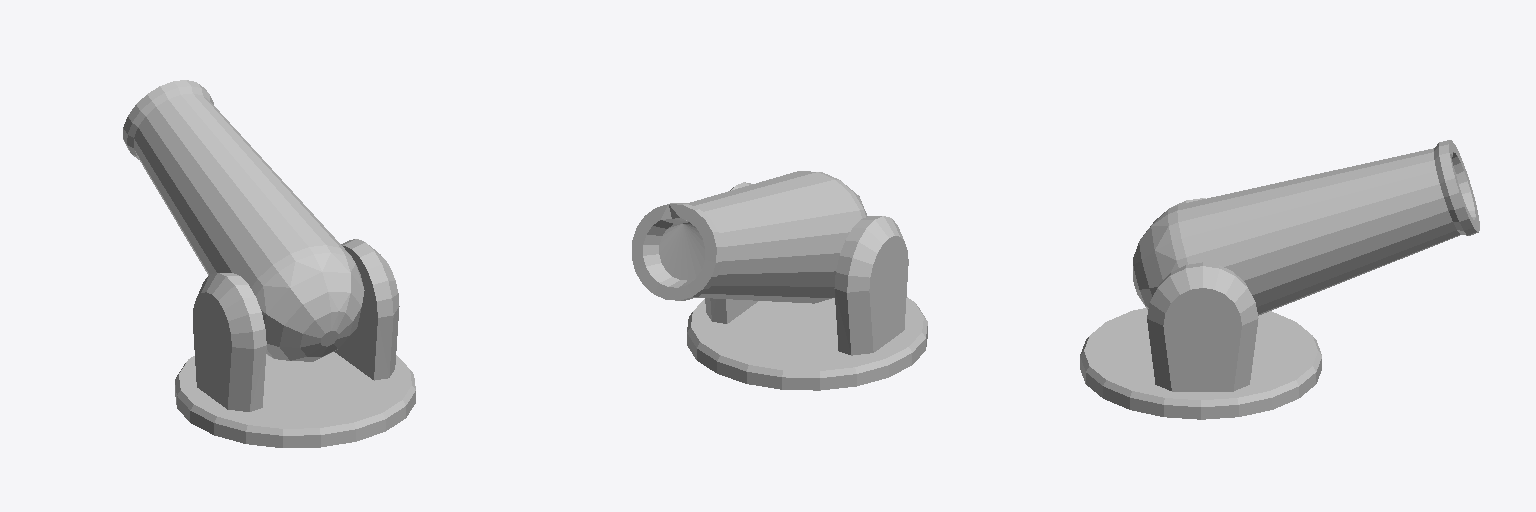
The model's file is Cannon.obj.
3 views of the same model, side by side, from view 1: azimuth 30°, elevation 25°; view 2: azimuth 150°, elevation 25°; view 3: azimuth 270°, elevation 25° (orthographic).
Visible parts, largest first — view 1: polySurface8; view 2: polySurface8; view 3: polySurface8.
Part boxes in pixels (left/top/right/bottom): polySurface8: left=123, top=80, right=415, bottom=447; polySurface8: left=632, top=171, right=927, bottom=390; polySurface8: left=1080, top=140, right=1479, bottom=419.
Size of the model in its own units: 3.63 by 3.71 by 5.99.